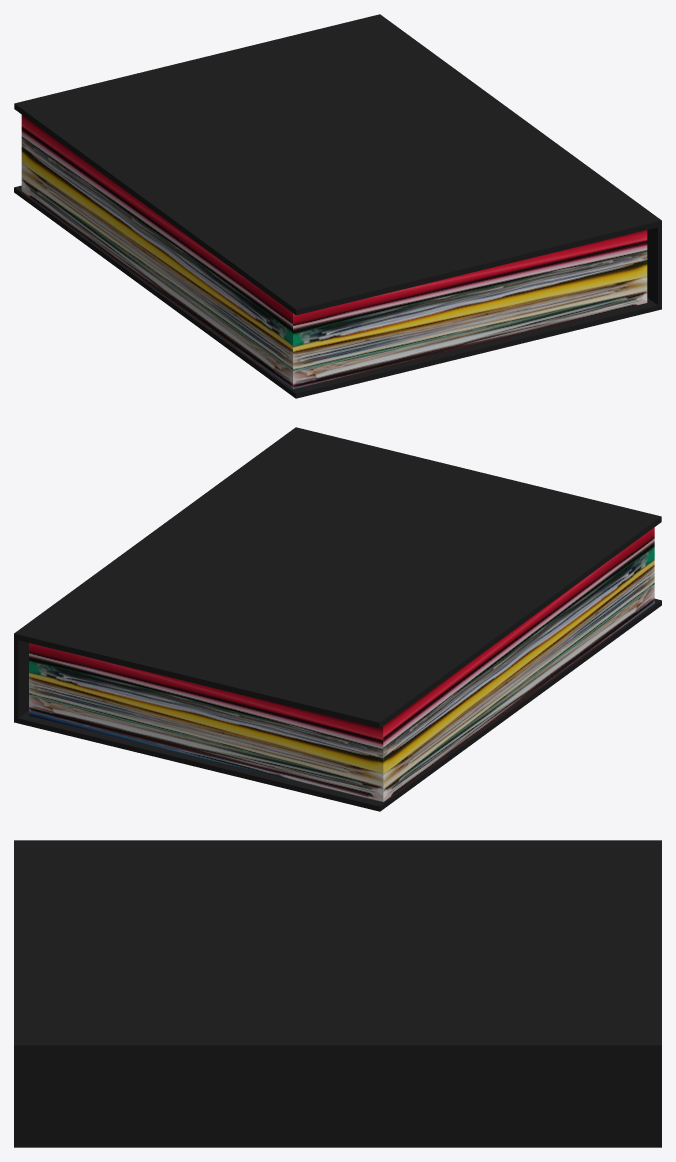
File: Files 4.FBX
The picture shows the model from 3 angles, top to bottom: view 1: azimuth 30°, elevation 25°; view 2: azimuth 150°, elevation 25°; view 3: azimuth 270°, elevation 25°; orthographic projection. The views are drawn at different scales.
Visible parts, largest first — view 1: Files 4; view 2: Files 4; view 3: Files 4.
Boxes of the visible parts, x1,y1,x2,y2 form: Files 4: (14, 14, 661, 398); Files 4: (14, 427, 661, 811); Files 4: (14, 840, 661, 1147).
Size of the model in its own units: 24.3 by 5.64 by 32.41.
Materials: 1 (1 with a texture image).
